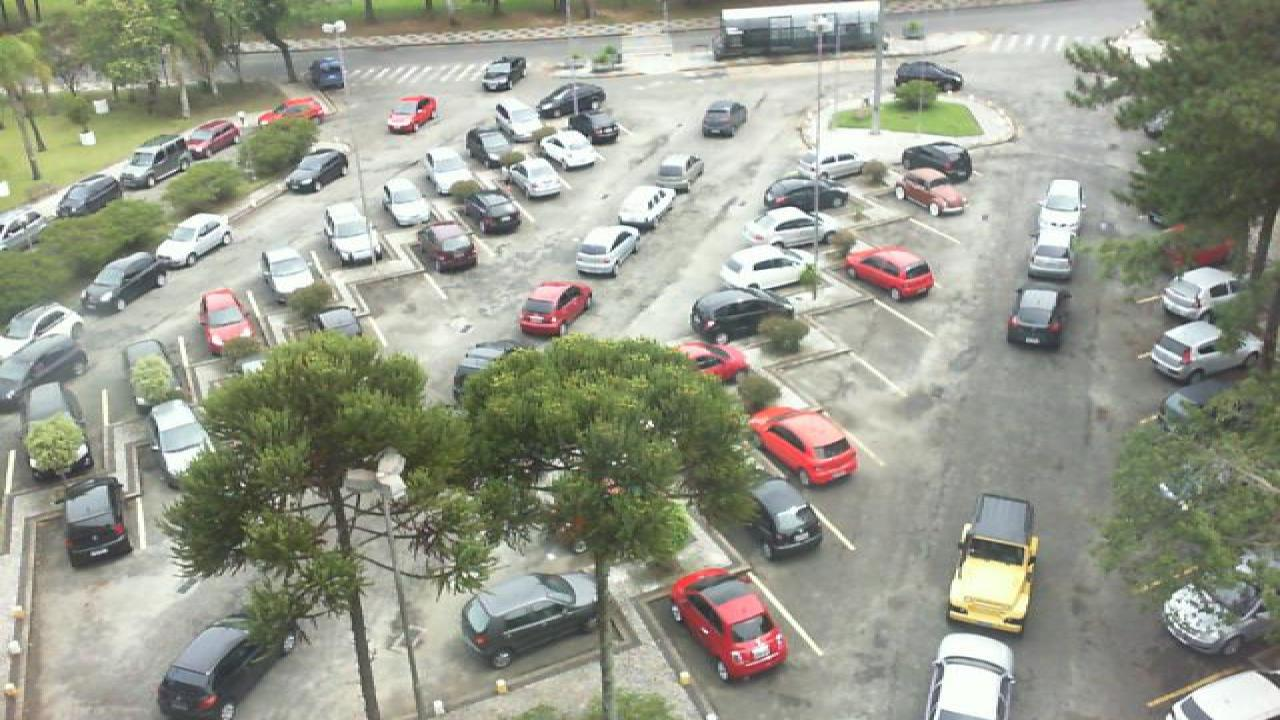Car: (458, 570, 600, 668), (946, 492, 1042, 636), (670, 566, 786, 682), (152, 616, 274, 719), (1162, 565, 1278, 658), (746, 405, 862, 488), (920, 633, 1020, 719), (50, 474, 130, 568), (1148, 320, 1266, 382), (22, 382, 90, 482), (744, 478, 824, 562), (690, 286, 798, 343), (1164, 669, 1280, 720), (0, 334, 88, 401), (80, 251, 166, 317), (844, 245, 936, 303), (1158, 267, 1248, 325), (150, 396, 212, 478), (716, 245, 808, 296), (518, 279, 594, 339), (154, 211, 232, 269), (1006, 285, 1072, 353), (1156, 380, 1240, 433), (322, 200, 380, 267), (738, 206, 826, 250), (672, 340, 754, 387), (894, 166, 968, 218), (198, 287, 256, 353), (116, 141, 192, 189), (2, 302, 84, 346), (574, 224, 642, 277), (452, 340, 512, 398), (416, 220, 478, 274), (898, 140, 974, 184), (614, 181, 680, 231), (54, 174, 128, 218), (258, 245, 316, 299), (762, 174, 846, 210), (456, 189, 520, 236), (1026, 222, 1076, 281), (284, 148, 348, 194), (172, 117, 240, 160), (1038, 178, 1086, 234), (504, 156, 564, 200), (540, 129, 600, 171), (492, 96, 546, 142), (382, 179, 432, 228), (892, 60, 966, 93), (538, 82, 608, 115), (464, 124, 510, 174), (424, 148, 470, 196), (386, 94, 440, 134), (792, 152, 866, 181), (314, 305, 362, 349), (260, 96, 328, 127), (654, 153, 706, 193), (0, 208, 48, 249), (574, 107, 620, 146), (702, 99, 748, 138), (480, 55, 528, 92), (308, 57, 344, 91)
